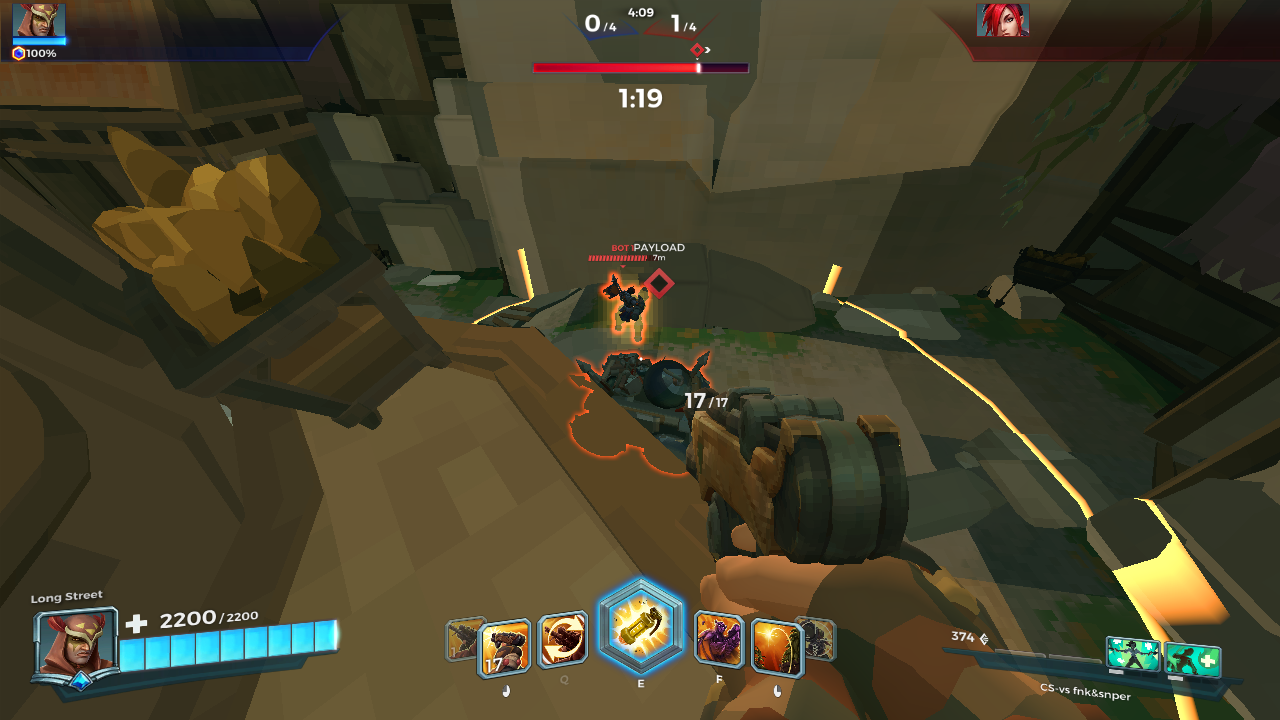model: (592, 263, 650, 350)
